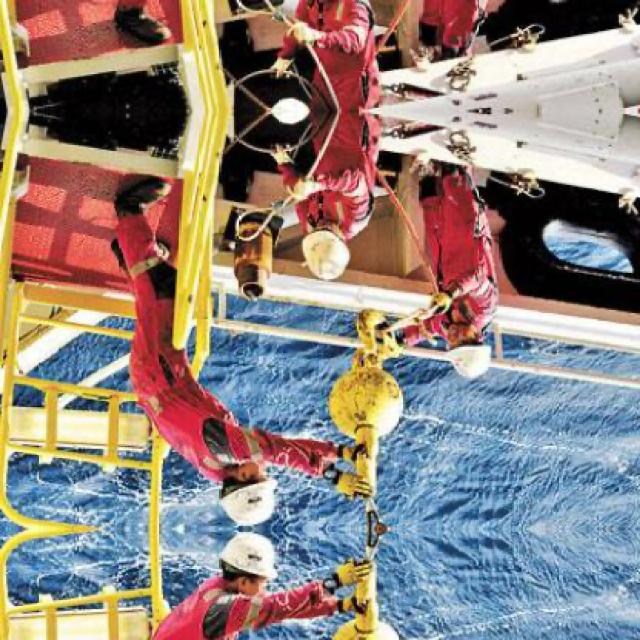con casco: (282, 214, 368, 287), (207, 452, 287, 530), (438, 317, 504, 389)
